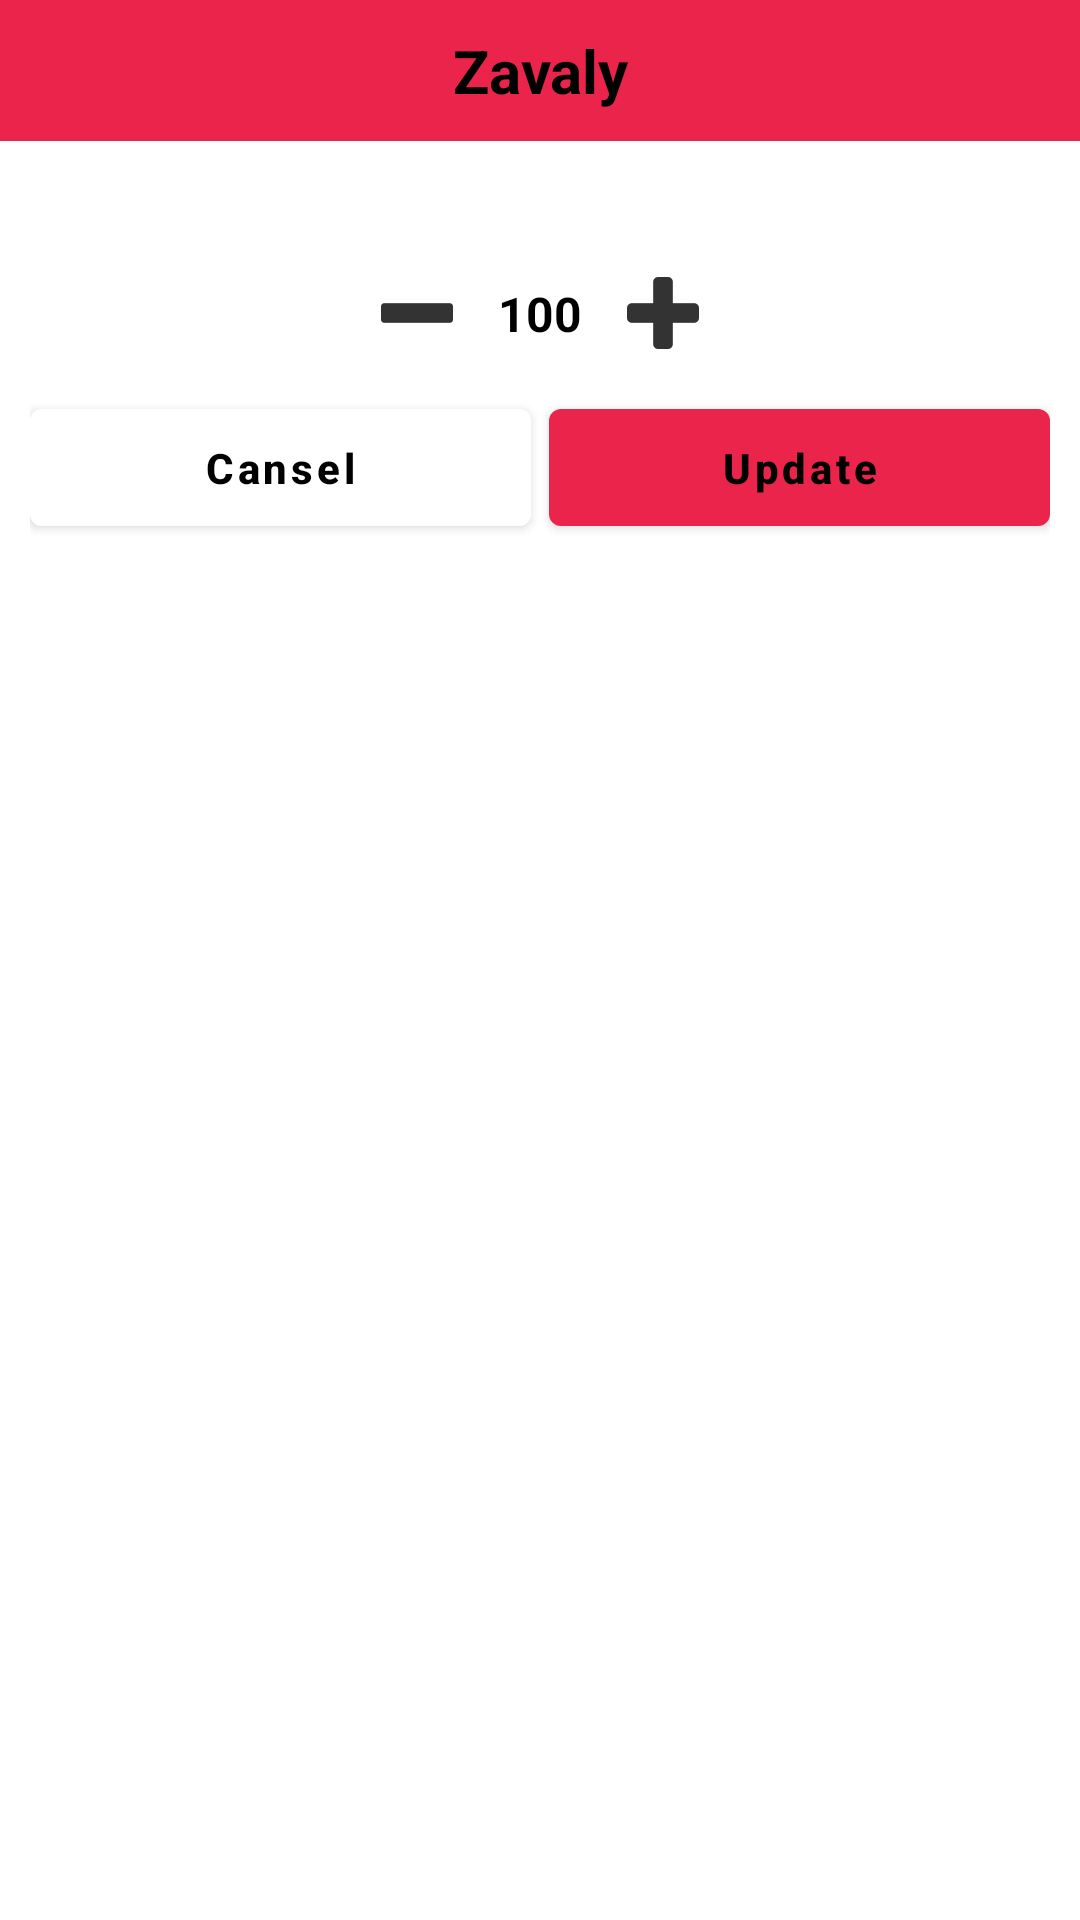

Screen size 1080×1920. Icon name, then its box in pixels as [left=x1, top=y1, right=x2, bottom=y2]:
minus: [left=381, top=303, right=453, bottom=323]
plus: [left=627, top=277, right=699, bottom=349]
